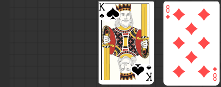8D: (212, 66, 219, 83)
